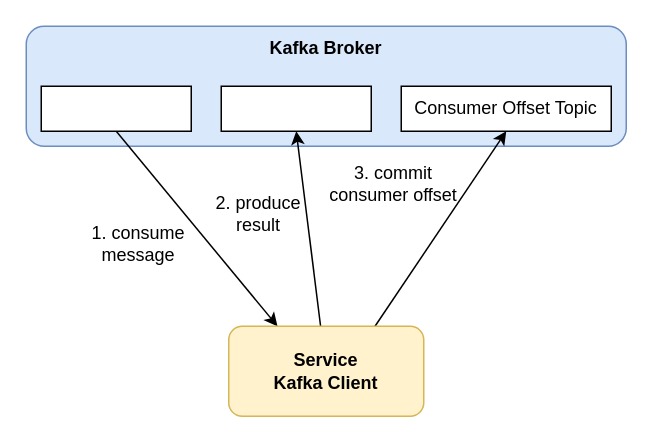
This 653x443 diagram has some shape labels left out. The centre of each missing label's shape, as x and y in pixels:
"Inbound Topic" belongs at [115,108].
"Outbound Topic" belongs at [295,108].
